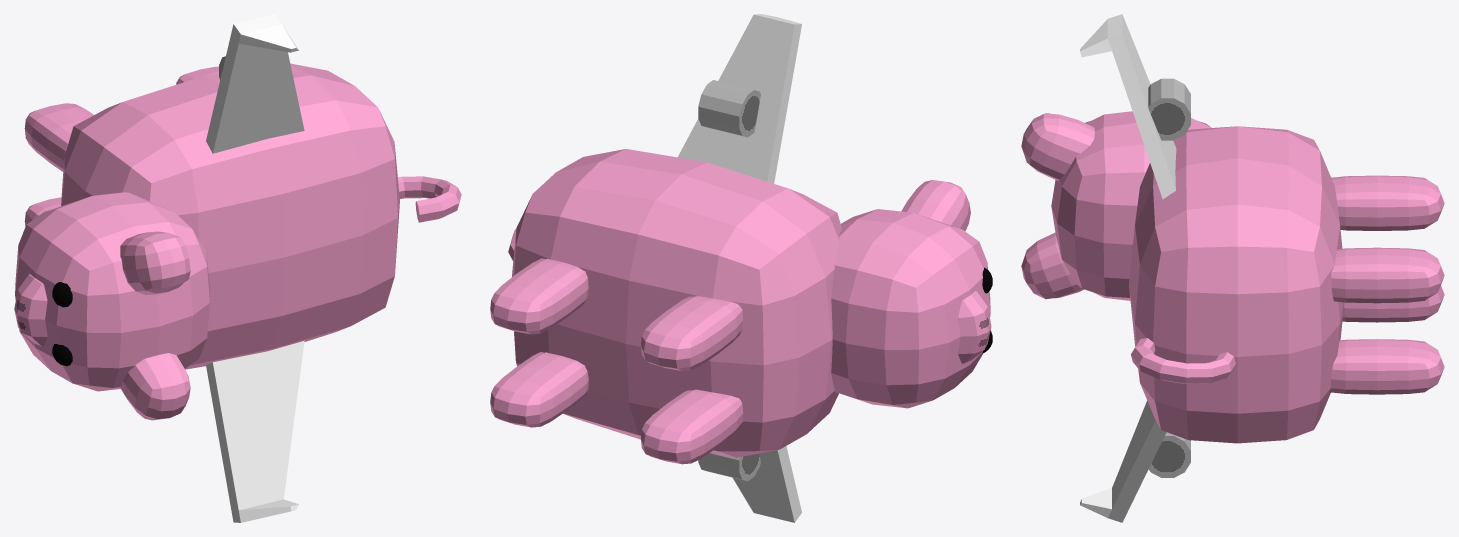
The model's file is hat-pig.glb.
The picture shows the model from 3 angles, left to right: view 1: azimuth 30°, elevation 25°; view 2: azimuth 150°, elevation 25°; view 3: azimuth 270°, elevation 25°; orthographic projection.
Visible parts, largest first — view 1: beveled_cuboid (×6), cube (×2), torus; view 2: beveled_cuboid (×8), cube (×2), cylinder (×2); view 3: beveled_cuboid (×8), cube (×2), cylinder (×2), torus.
Boxes of the visible parts, x1,y1,x2,y2 form: beveled_cuboid (×6): (14, 63, 399, 420); cube (×2): (206, 14, 304, 522); torus: (398, 176, 461, 222); beveled_cuboid (×8): (490, 149, 991, 464); cube (×2): (678, 14, 801, 522); cylinder (×2): (698, 80, 760, 481); beveled_cuboid (×8): (1021, 111, 1444, 443); cube (×2): (1080, 14, 1176, 522); cylinder (×2): (1148, 78, 1190, 477); torus: (1131, 338, 1235, 383).
Bounding box in the file's own units: 0.9343 × 0.9786 × 0.7673.
5 materials, 5 textured.
